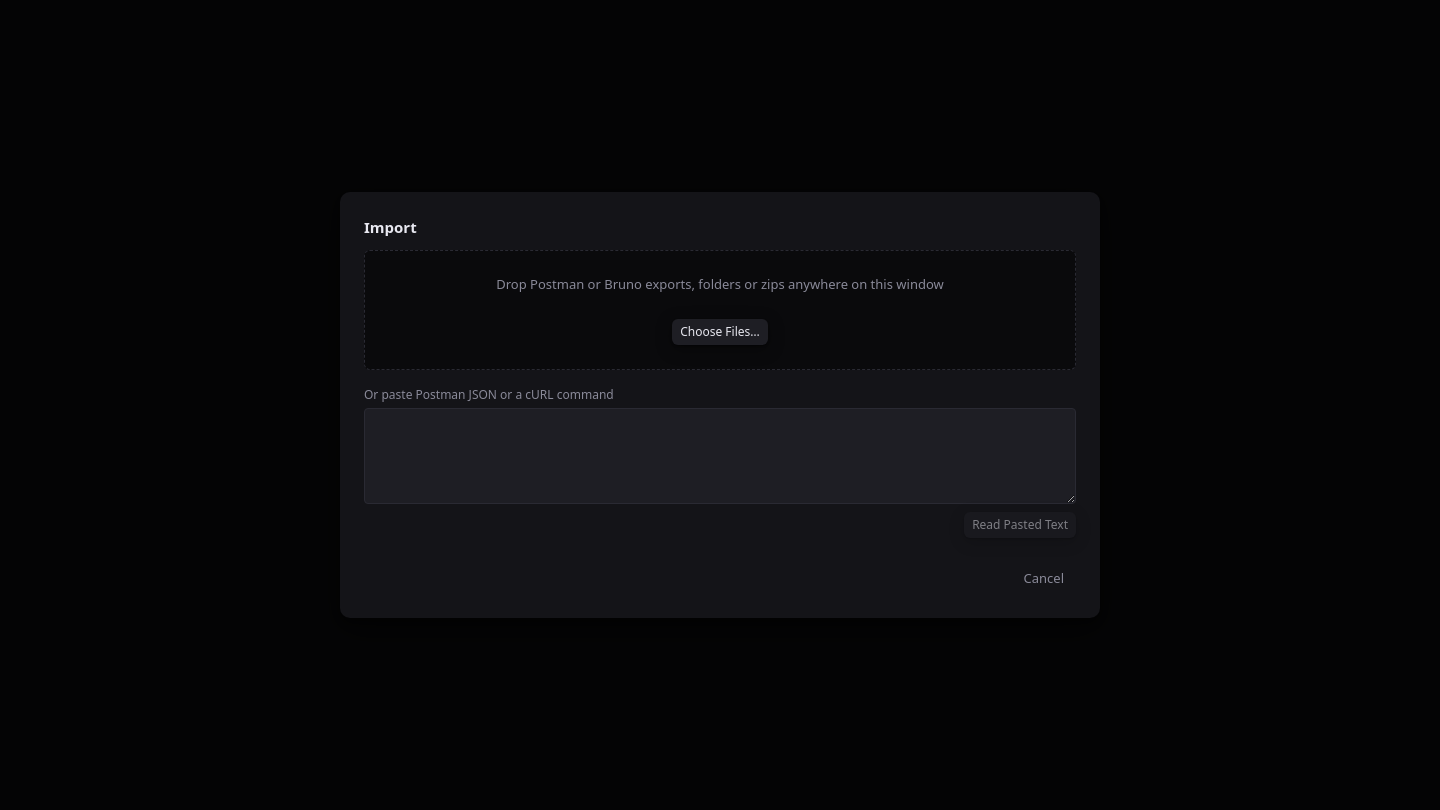
Test case: ImportDialog › assigns each item of a Postman v3 workspace folder to a workspace and lists the parts it skips
The image size is (1440, 810).
Type "workspace" into the text box labelled "Or paste Postman JSON or a cURL command" at (720, 456), box [364, 408, 1076, 504]
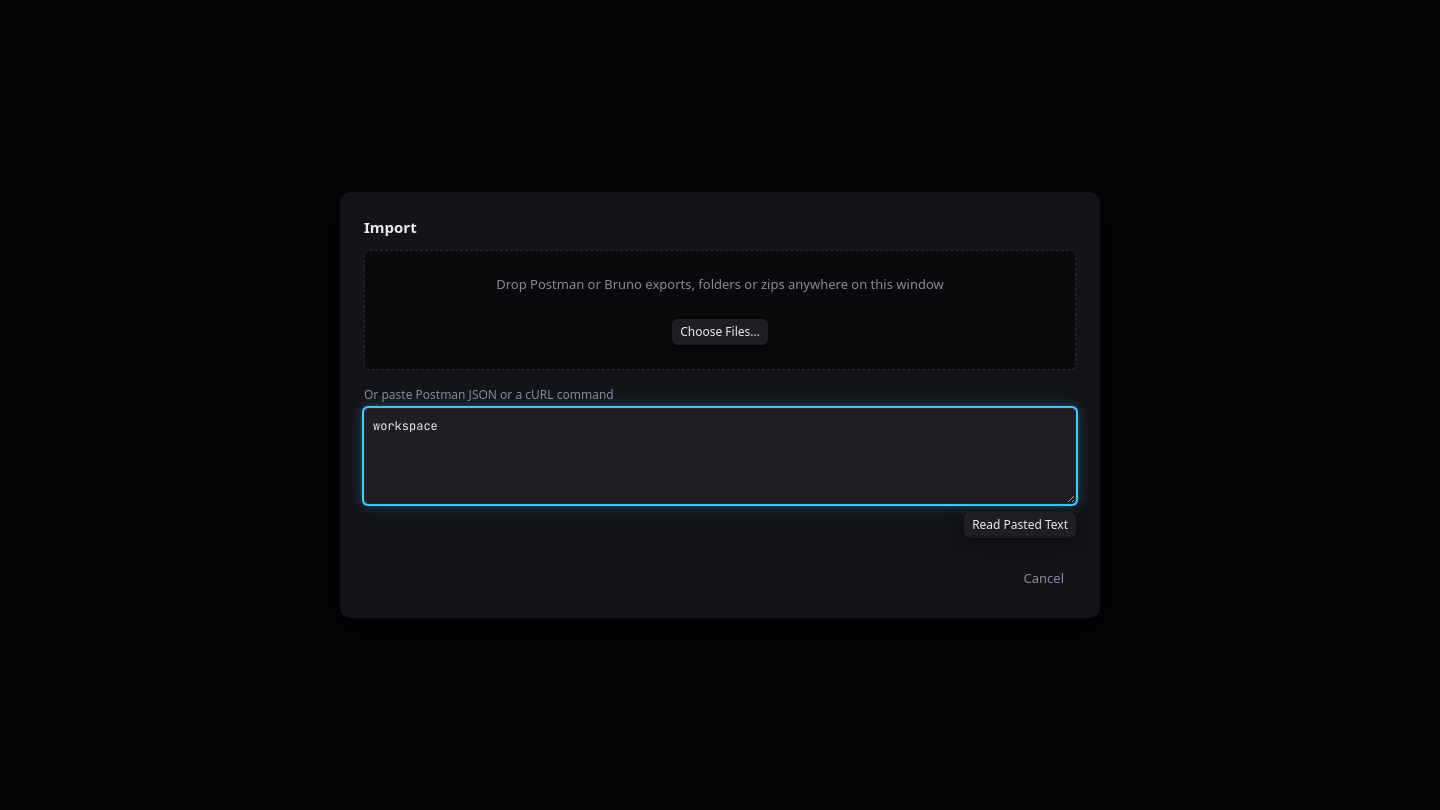
Click the button "Read Pasted Text" at (1020, 525), box [964, 512, 1076, 538]
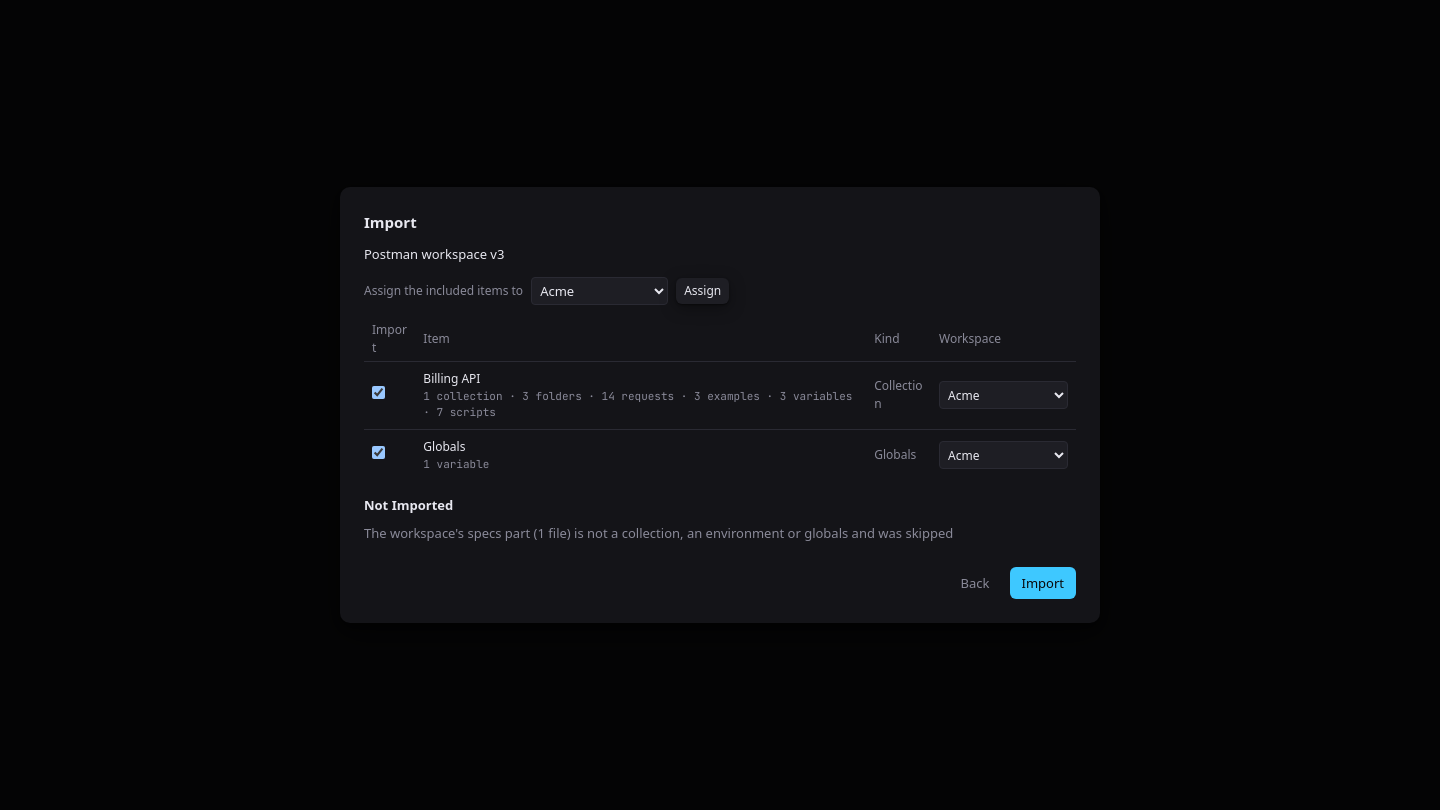
Expected: the text "Postman workspace v3" is shown, [364, 245, 504, 263]
Expected: the dropdown named "Workspace for the included items" is shown, [531, 277, 668, 305]
Expected: the dropdown named "Workspace for Billing API" shows "Acme", [939, 381, 1068, 409]
